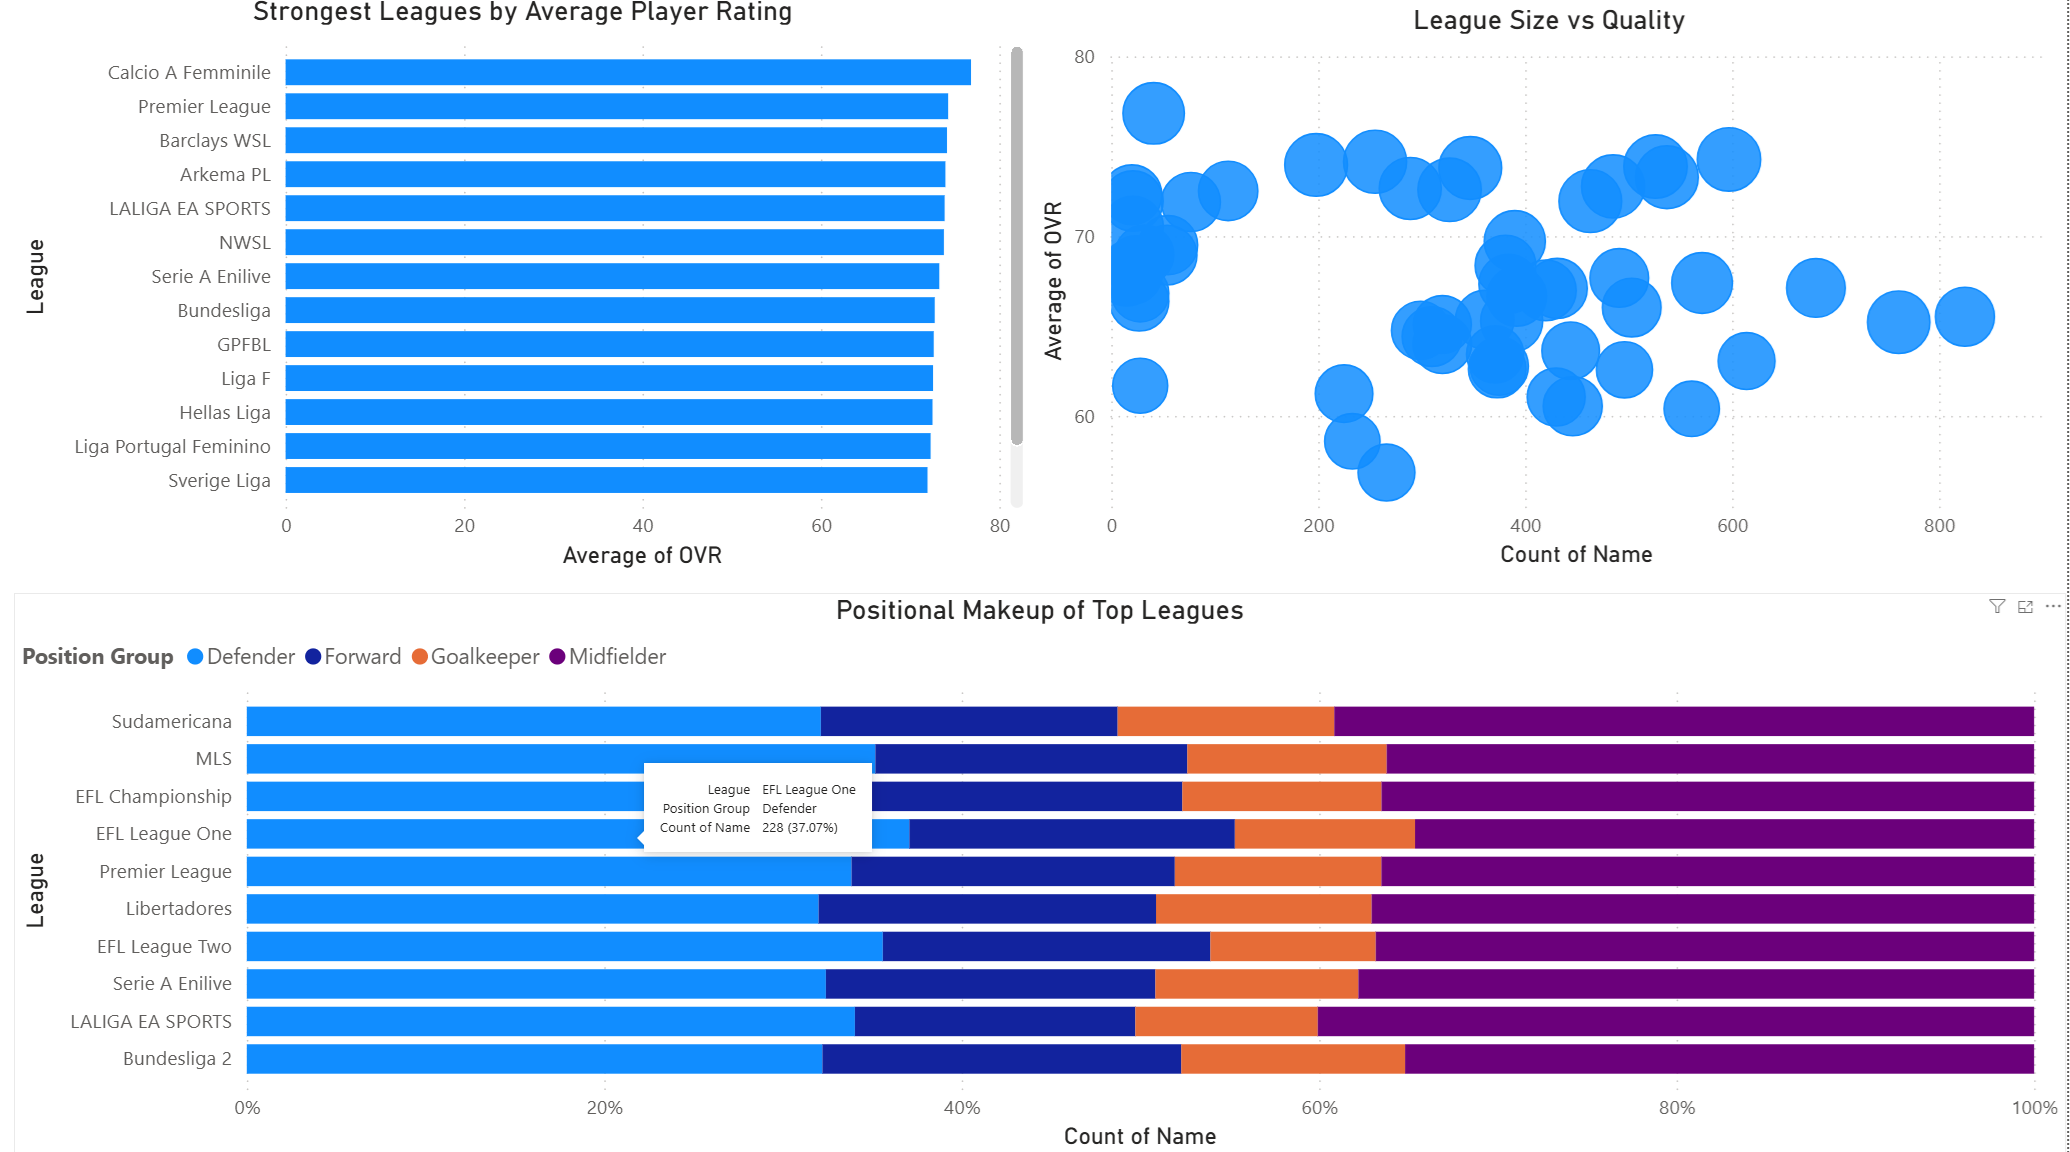

The page's visual inventory and layout, read from the dashboard file:
{"tool":"powerbi","page":{"name":"League Analysis","canvas":[1280,720],"ordinal":2},"visuals":[{"type":"clusteredBarChart","title":"Strongest Leagues by Average Player Rating","fields":{"Category":["fc25_powerbi_ready.League"],"Y":["Avg(fc25_powerbi_ready.OVR)"]},"box":[10.5,0,629.5,359.9],"z":0},{"type":"scatterChart","title":"League Size vs Quality","fields":{"X":["fc25_powerbi_ready.Name"],"Y":["Avg(fc25_powerbi_ready.OVR)"],"Category":["fc25_powerbi_ready.League"],"Size":["Max(fc25_powerbi_ready.OVR)1"]},"box":[640,5.9,640,354],"z":1000},{"type":"hundredPercentStackedBarChart","title":"Positional Makeup of Top Leagues","fields":{"Category":["fc25_powerbi_ready.League"],"Y":["Count(fc25_powerbi_ready.Name)"],"Series":["fc25_powerbi_ready.Position Group"]},"box":[10.5,370.4,1269.5,349.3],"z":2000}]}

Visuals, with their boxes in screenshot pixels (x1, y1, x2, y2), scaled from the page's 1280x720 canvas onto the 2070x1152 screenshot:
"Strongest Leagues by Average Player Rating" clusteredBarChart: 17,0,1035,576
"League Size vs Quality" scatterChart: 1035,9,2069,576
"Positional Makeup of Top Leagues" hundredPercentStackedBarChart: 17,593,2069,1151
